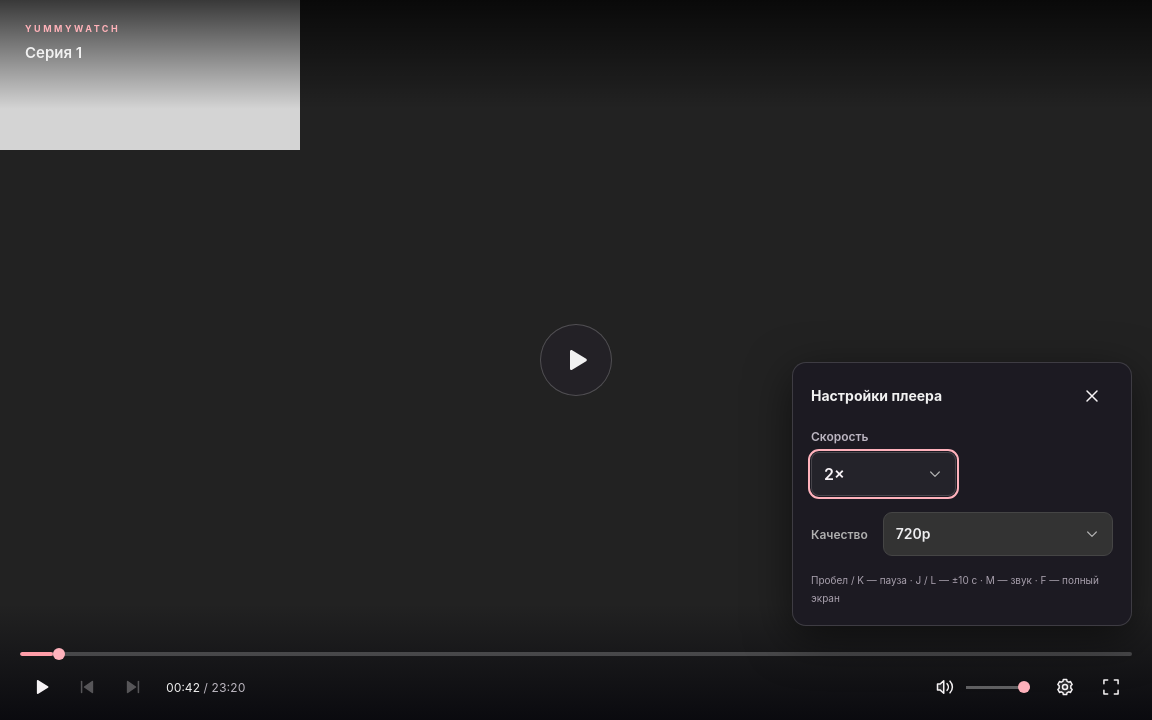
Test: custom playback controls › keeps 2x selected during the decoder buffering and rate transitions
Earlier steps of the test are not shown.
Click the dropdown named "Скорость воспроизведения" at [884, 474], box [811,452,956,496]
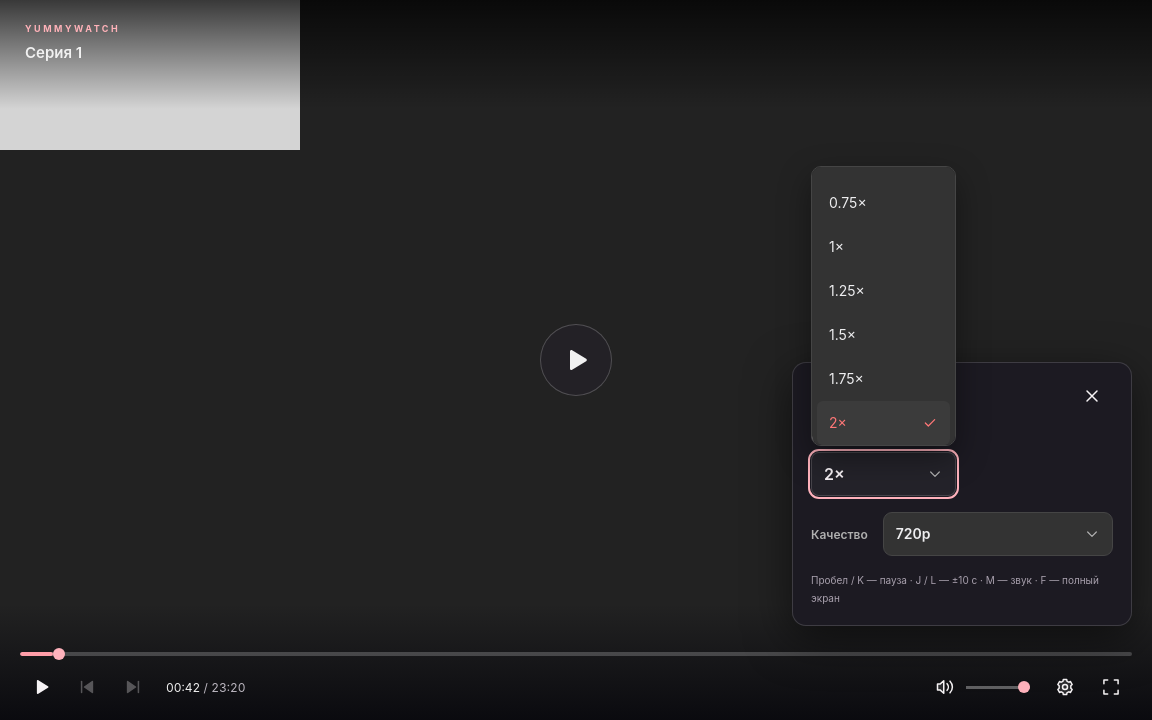
Press Escape in the dropdown named "Скорость воспроизведения", box [811,452,956,496]
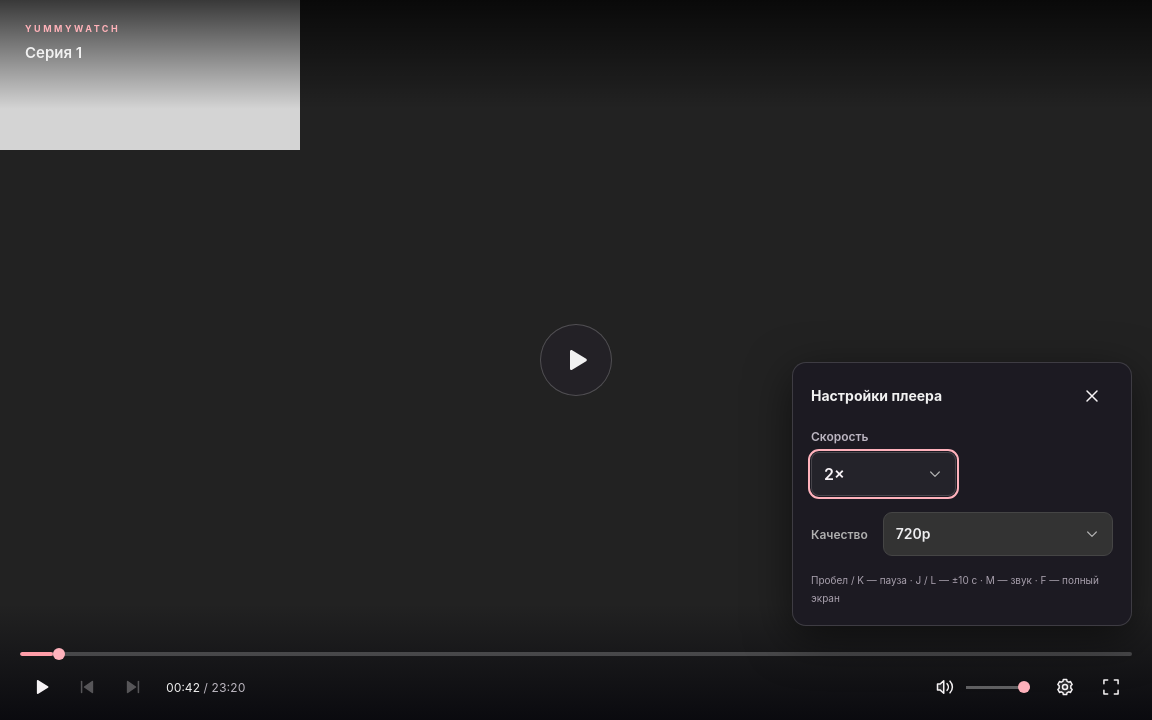
Check: the dialog "Настройки плеера" is shown, box [792,362,1132,626]
Check: the list is gone
Press Escape in the dropdown named "Скорость воспроизведения", box [811,452,956,496]
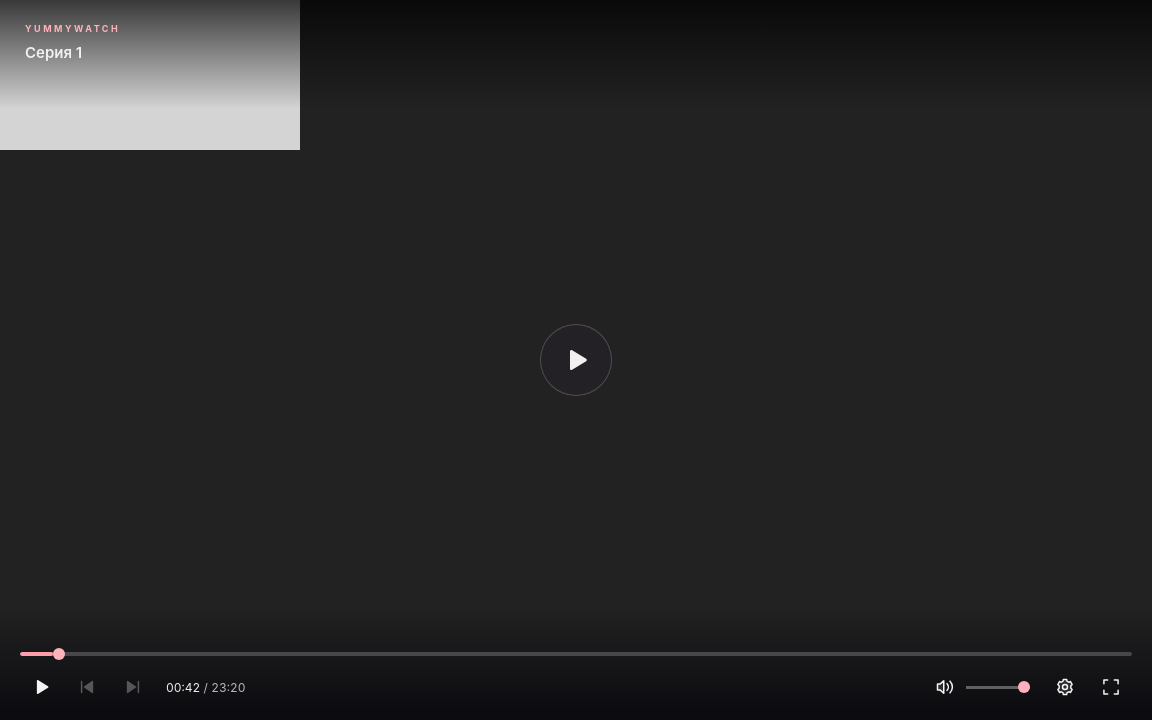
Check: the text "Настройки плеера" is gone
